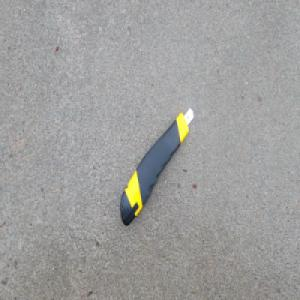Cutter: (119, 106, 195, 228)
